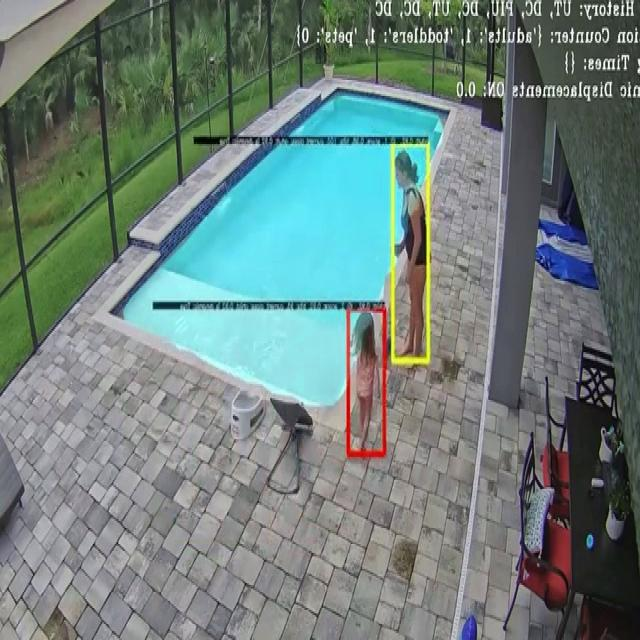adult: (394, 140, 426, 364)
child: (350, 311, 379, 454)
